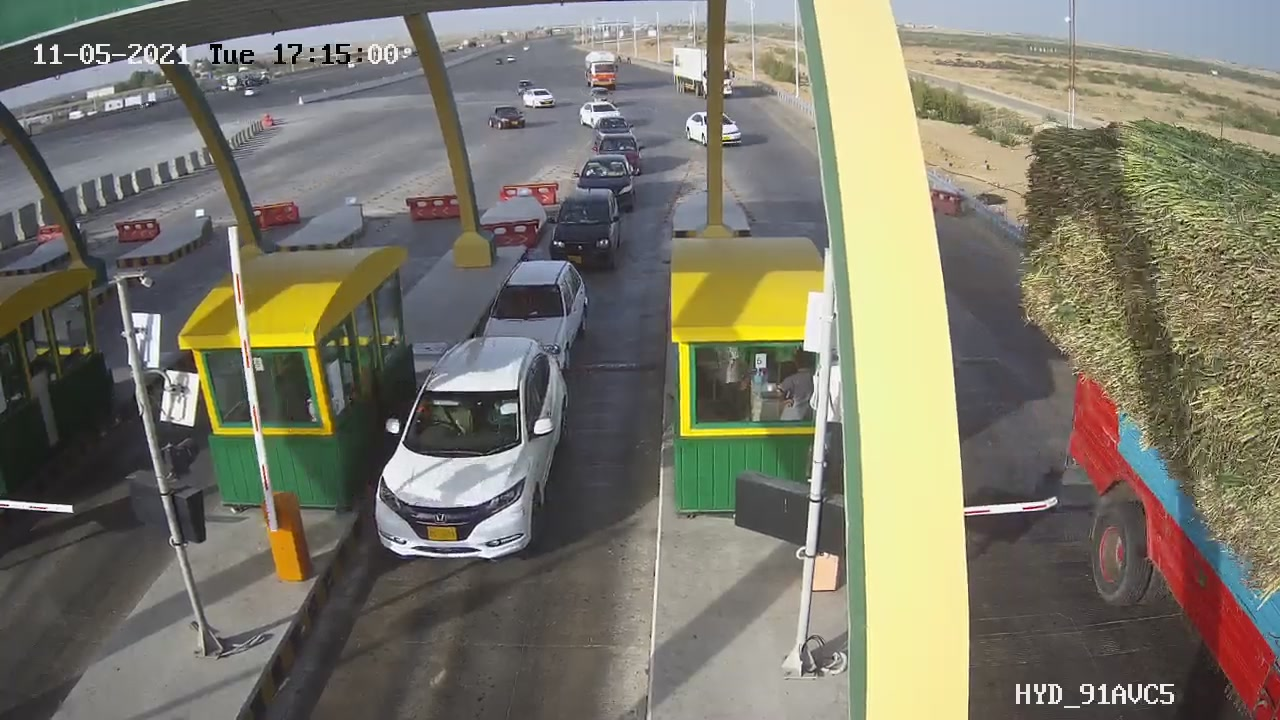F1: (360, 324, 581, 574), (537, 185, 640, 278)
